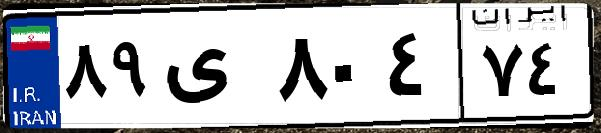0: (330, 28, 385, 110)
4: (385, 28, 445, 110), (525, 38, 570, 115)
7: (475, 38, 525, 113)
8: (270, 28, 330, 110), (57, 26, 110, 100)
9: (110, 28, 158, 98)
ی: (158, 20, 270, 120)
